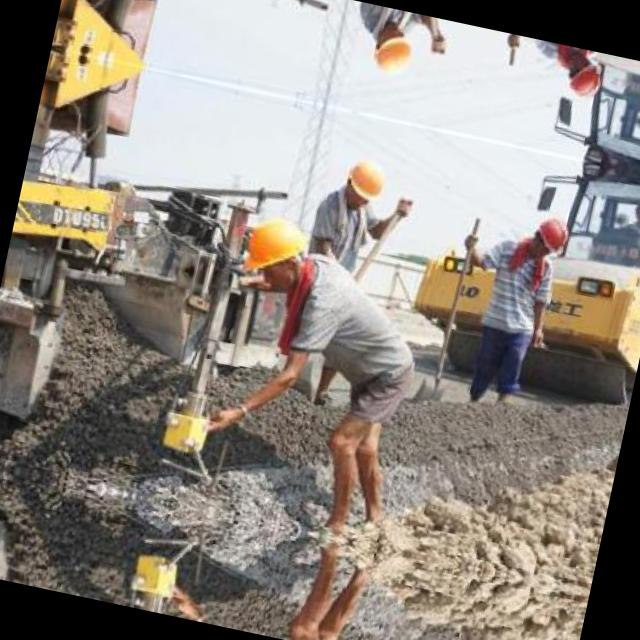helmet: (37, 51, 147, 178), (228, 202, 318, 302), (60, 0, 171, 65), (364, 17, 420, 82), (336, 149, 391, 214), (528, 208, 572, 256), (560, 54, 604, 102)
